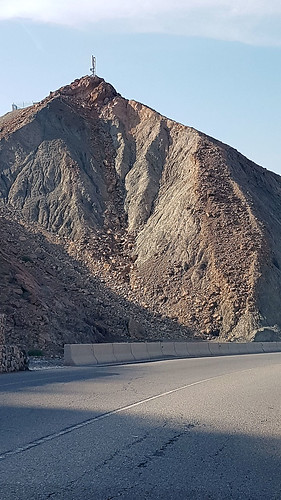mountain: (6, 61, 227, 190)
road: (1, 346, 281, 495)
sky: (1, 1, 279, 120)
